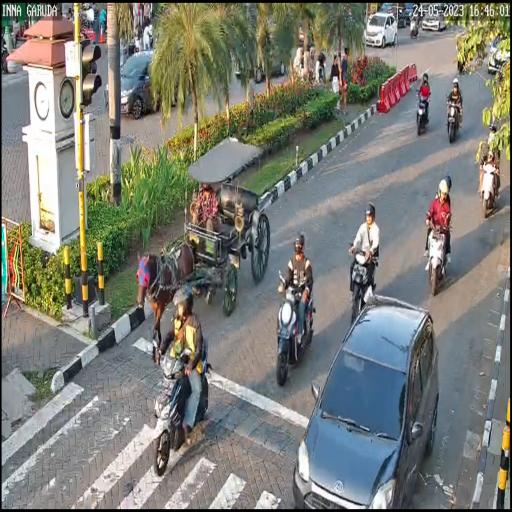mobil: (294, 304, 442, 512)
motor: (153, 345, 213, 482), (269, 268, 322, 391), (413, 198, 466, 304), (346, 226, 380, 320), (470, 141, 508, 222), (410, 84, 439, 140), (445, 94, 465, 143)
